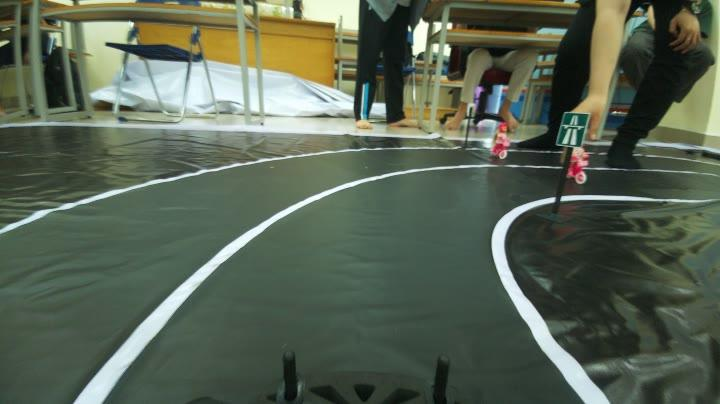highway_entry: (559, 111, 584, 148)
pedestrian: (491, 120, 516, 156), (568, 150, 586, 188)
